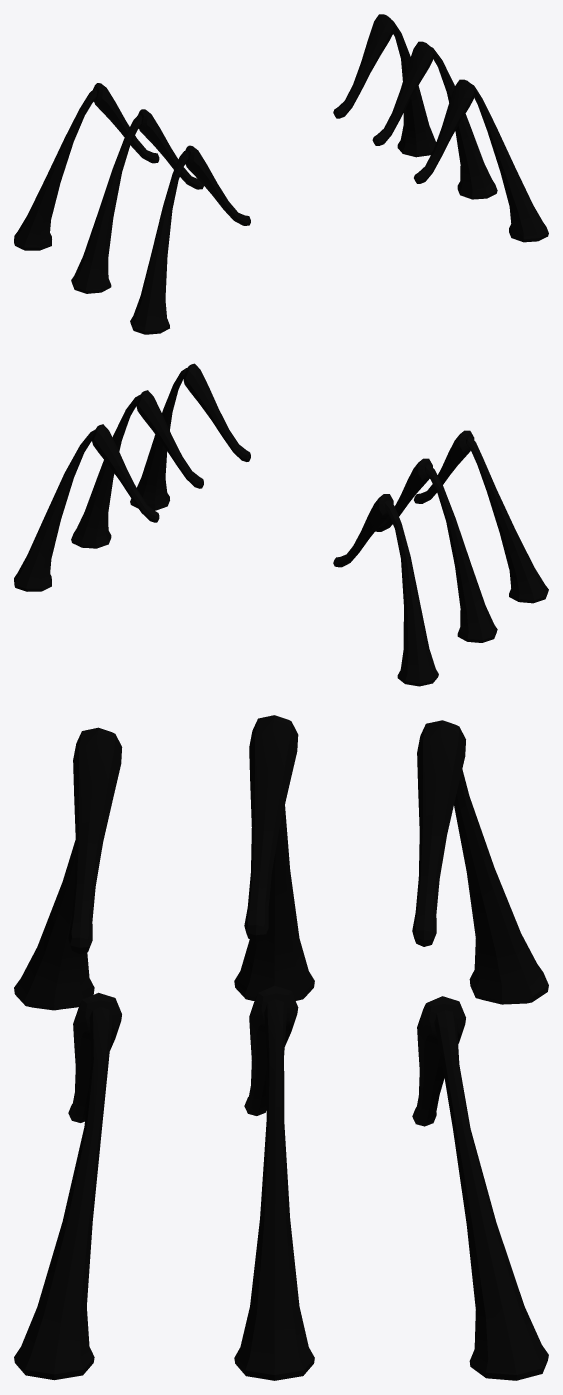
Rendered from Scorpion Legs.fbx.
3 views of the same model, one above another, from view 1: azimuth 30°, elevation 25°; view 2: azimuth 150°, elevation 25°; view 3: azimuth 270°, elevation 25° (orthographic). The views are drawn at different scales.
Parts seen in each view (by area): view 1: Cube.009, Cube.010, Cube.011, Cube.006, Cube.008, Cube.007; view 2: Cube.011, Cube.010, Cube.009, Cube.008, Cube.006, Cube.007; view 3: Cube.011, Cube.010, Cube.009, Cube.008, Cube.007, Cube.006.
Part boxes in pixels (x1,y1,x2,y2): Cube.009: (130,84,548,334); Cube.010: (71,47,497,293); Cube.011: (14,19,436,250); Cube.006: (185,79,474,225); Cube.008: (93,14,393,163); Cube.007: (138,41,432,189); Cube.011: (14,429,438,686); Cube.010: (71,394,497,642); Cube.009: (130,367,548,603); Cube.008: (92,424,393,567); Cube.006: (183,363,474,503); Cube.007: (136,390,432,531); Cube.011: (434,769,548,1380); Cube.010: (234,805,314,1380); Cube.009: (14,840,112,1380); Cube.008: (412,720,465,1126); Cube.007: (244,715,298,1115); Cube.006: (68,727,122,1122).
Bounding box in the file's own units: 219 × 120 × 82.96.
